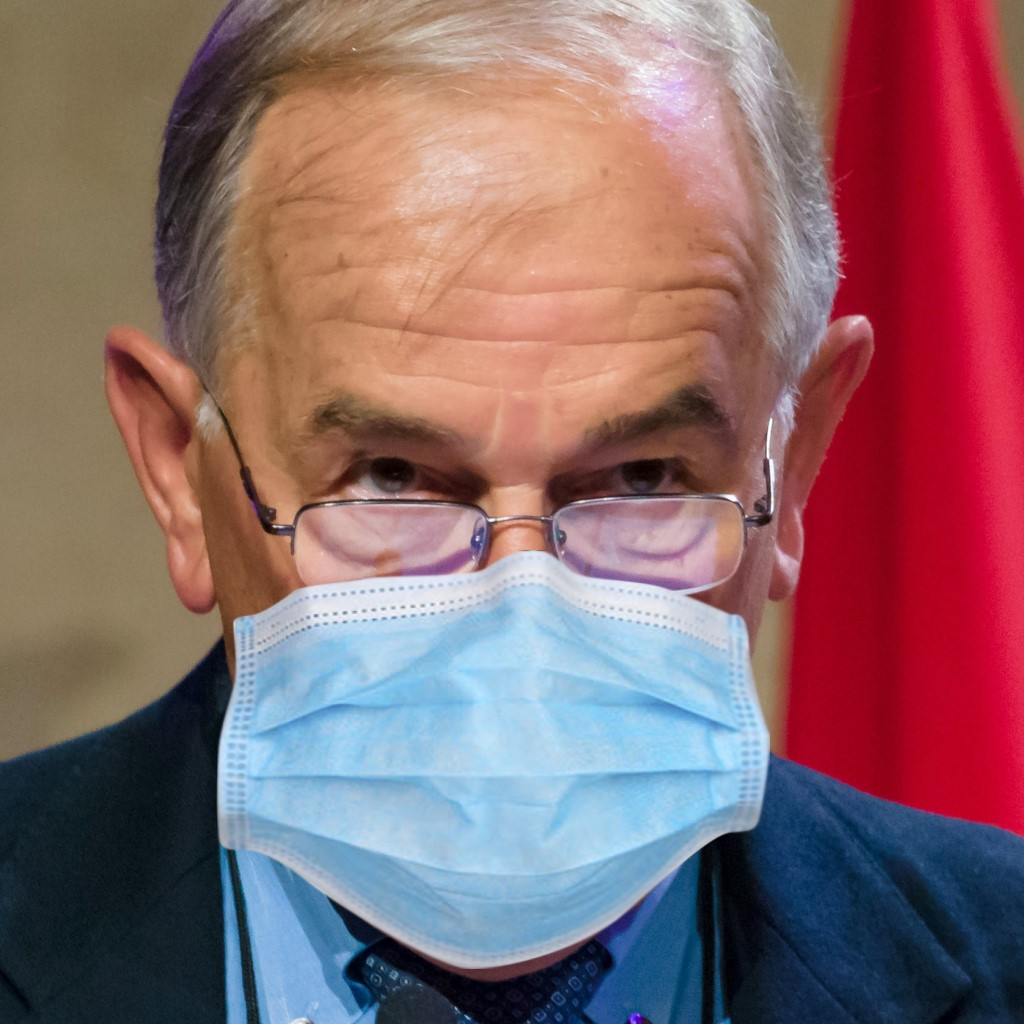con_mascara: (171, 93, 766, 913)
